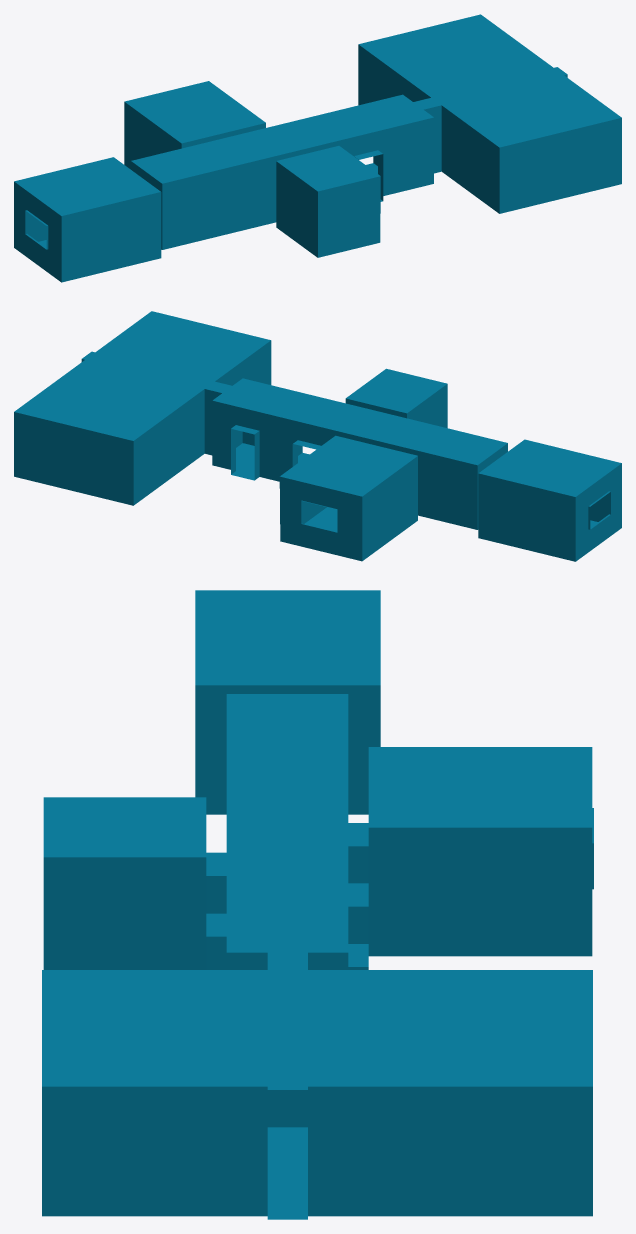
Rendered from Room_NoObjects.fbx.
3 views of the same model, one above another, from view 1: azimuth 30°, elevation 25°; view 2: azimuth 150°, elevation 25°; view 3: azimuth 270°, elevation 25° (orthographic). The views are drawn at different scales.
Parts seen in each view (by area): view 1: pPlane1; view 2: pPlane1; view 3: pPlane1.
Boxes of the visible parts, left/top/right/bottom form: pPlane1: left=14, top=14, right=621, bottom=282; pPlane1: left=14, top=311, right=621, bottom=561; pPlane1: left=42, top=590, right=593, bottom=1219.
Size of the model in its own units: 5804 by 699 by 2699.
